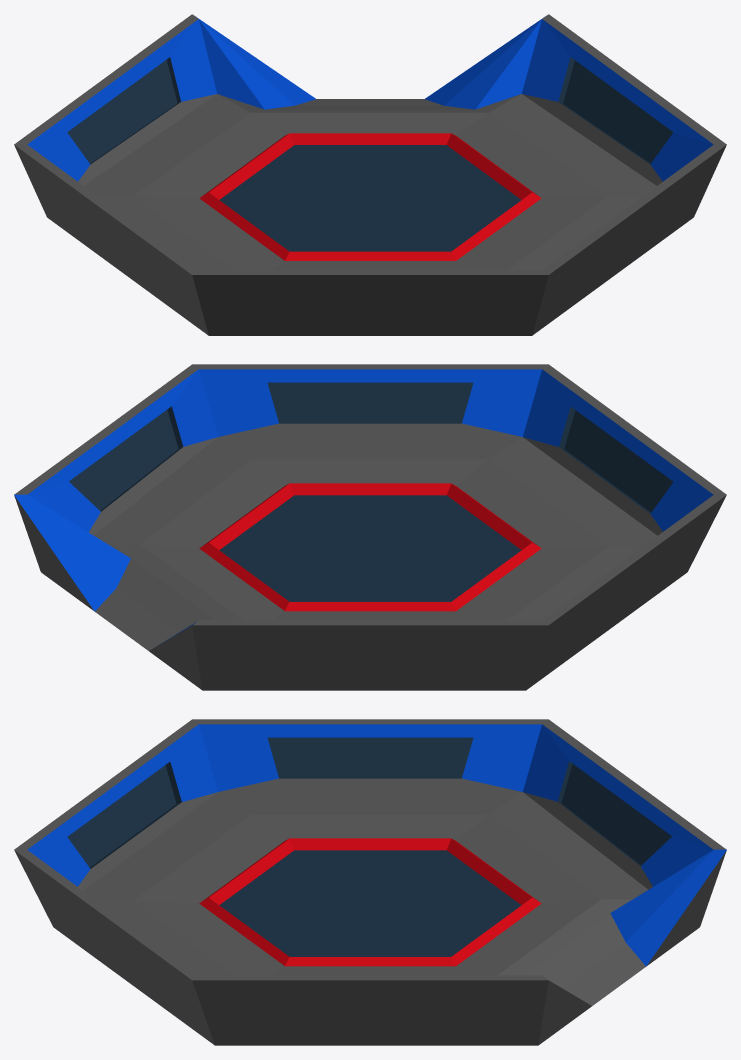
Rendered from BaseMortier.fbx.
The picture shows the model from 3 angles, top to bottom: view 1: azimuth 30°, elevation 25°; view 2: azimuth 150°, elevation 25°; view 3: azimuth 270°, elevation 25°; orthographic projection.
Visible parts, largest first — view 1: Cylinder; view 2: Cylinder; view 3: Cylinder.
Boxes of the visible parts, left/top/right/bottom form: Cylinder: left=14, top=14, right=726, bottom=335; Cylinder: left=14, top=364, right=726, bottom=690; Cylinder: left=14, top=719, right=726, bottom=1045.
Size of the model in its own units: 173 by 23.5 by 200.
